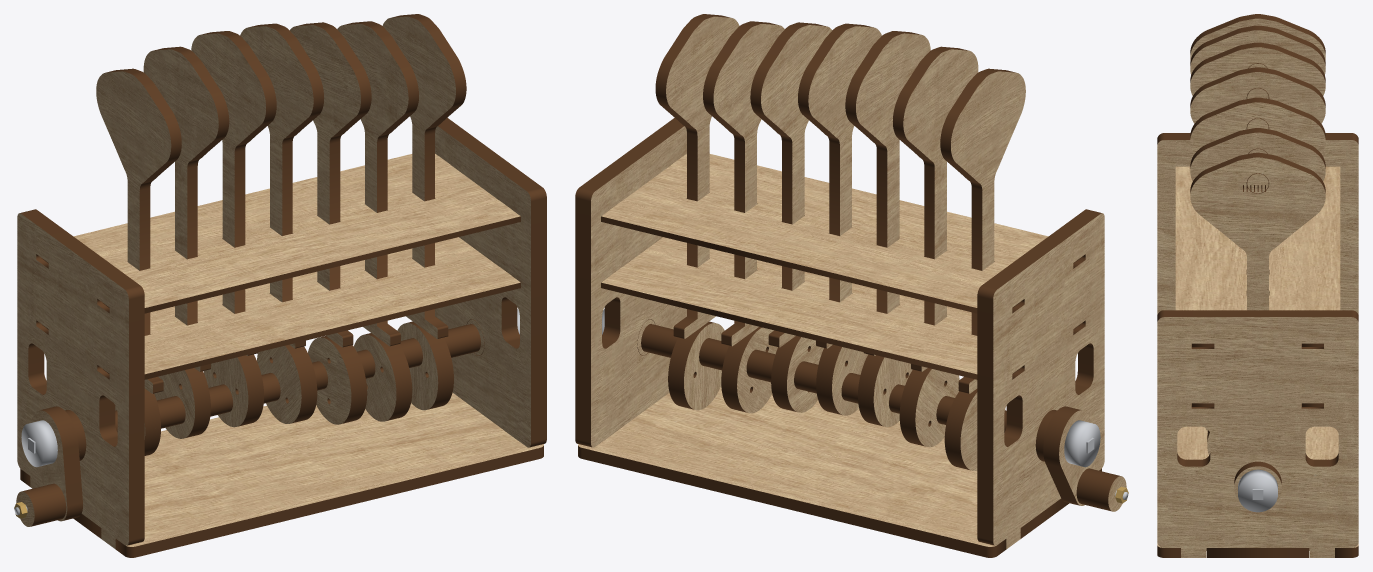
The model's file is tidal.glb.
The picture shows the model from 3 angles, left to right: view 1: azimuth 30°, elevation 25°; view 2: azimuth 150°, elevation 25°; view 3: azimuth 270°, elevation 25°; orthographic projection. The views are drawn at different scales.
Parts seen in each view (by area): view 1: body1, body2, body10, body8, body5, body11, body43, body45, body47, body49, body55, body53 (+24 smaller); view 2: body1, body2, body11, body9, body5, body10, body43, body45, body47, body49, body55, body53 (+23 smaller); view 3: body7, body56, body4, body10, body11, body50, body52, body48, body54, body1, body46, body44 (+12 smaller).
Boxes of the visible parts, x1=… form: body1: x1=20, y1=392, x2=543, y2=552; body2: x1=17, y1=212, x2=134, y2=549; body10: x1=103, y1=183, x2=520, y2=313; body8: x1=103, y1=249, x2=520, y2=379; body5: x1=435, y1=123, x2=536, y2=447; body11: x1=41, y1=154, x2=474, y2=269; body43: x1=96, y1=70, x2=176, y2=393; body45: x1=143, y1=48, x2=223, y2=371; body47: x1=191, y1=32, x2=271, y2=355; body49: x1=240, y1=25, x2=318, y2=348; body55: x1=382, y1=15, x2=461, y2=338; body53: x1=337, y1=22, x2=413, y2=346; body1: x1=578, y1=386, x2=1101, y2=552; body2: x1=988, y1=212, x2=1104, y2=549; body11: x1=601, y1=183, x2=1018, y2=313; body9: x1=601, y1=249, x2=1019, y2=379; body5: x1=585, y1=123, x2=686, y2=447; body10: x1=647, y1=154, x2=1080, y2=269; body43: x1=945, y1=70, x2=1025, y2=393; body45: x1=898, y1=48, x2=978, y2=371; body47: x1=850, y1=32, x2=930, y2=355; body49: x1=803, y1=25, x2=881, y2=348; body55: x1=660, y1=15, x2=739, y2=338; body53: x1=708, y1=22, x2=784, y2=346; body7: x1=1157, y1=315, x2=1358, y2=557; body56: x1=1190, y1=155, x2=1325, y2=310; body4: x1=1157, y1=137, x2=1358, y2=314; body10: x1=1175, y1=166, x2=1246, y2=347; body11: x1=1269, y1=166, x2=1340, y2=346; body50: x1=1190, y1=69, x2=1325, y2=123; body52: x1=1190, y1=100, x2=1325, y2=153; body48: x1=1190, y1=45, x2=1325, y2=95; body54: x1=1190, y1=130, x2=1325, y2=181; body1: x1=1157, y1=426, x2=1358, y2=552; body46: x1=1190, y1=28, x2=1325, y2=74; body44: x1=1190, y1=16, x2=1325, y2=60.
Size of the model in its own units: 0.2908 by 0.2407 by 0.11.
5 materials, 1 textured.
